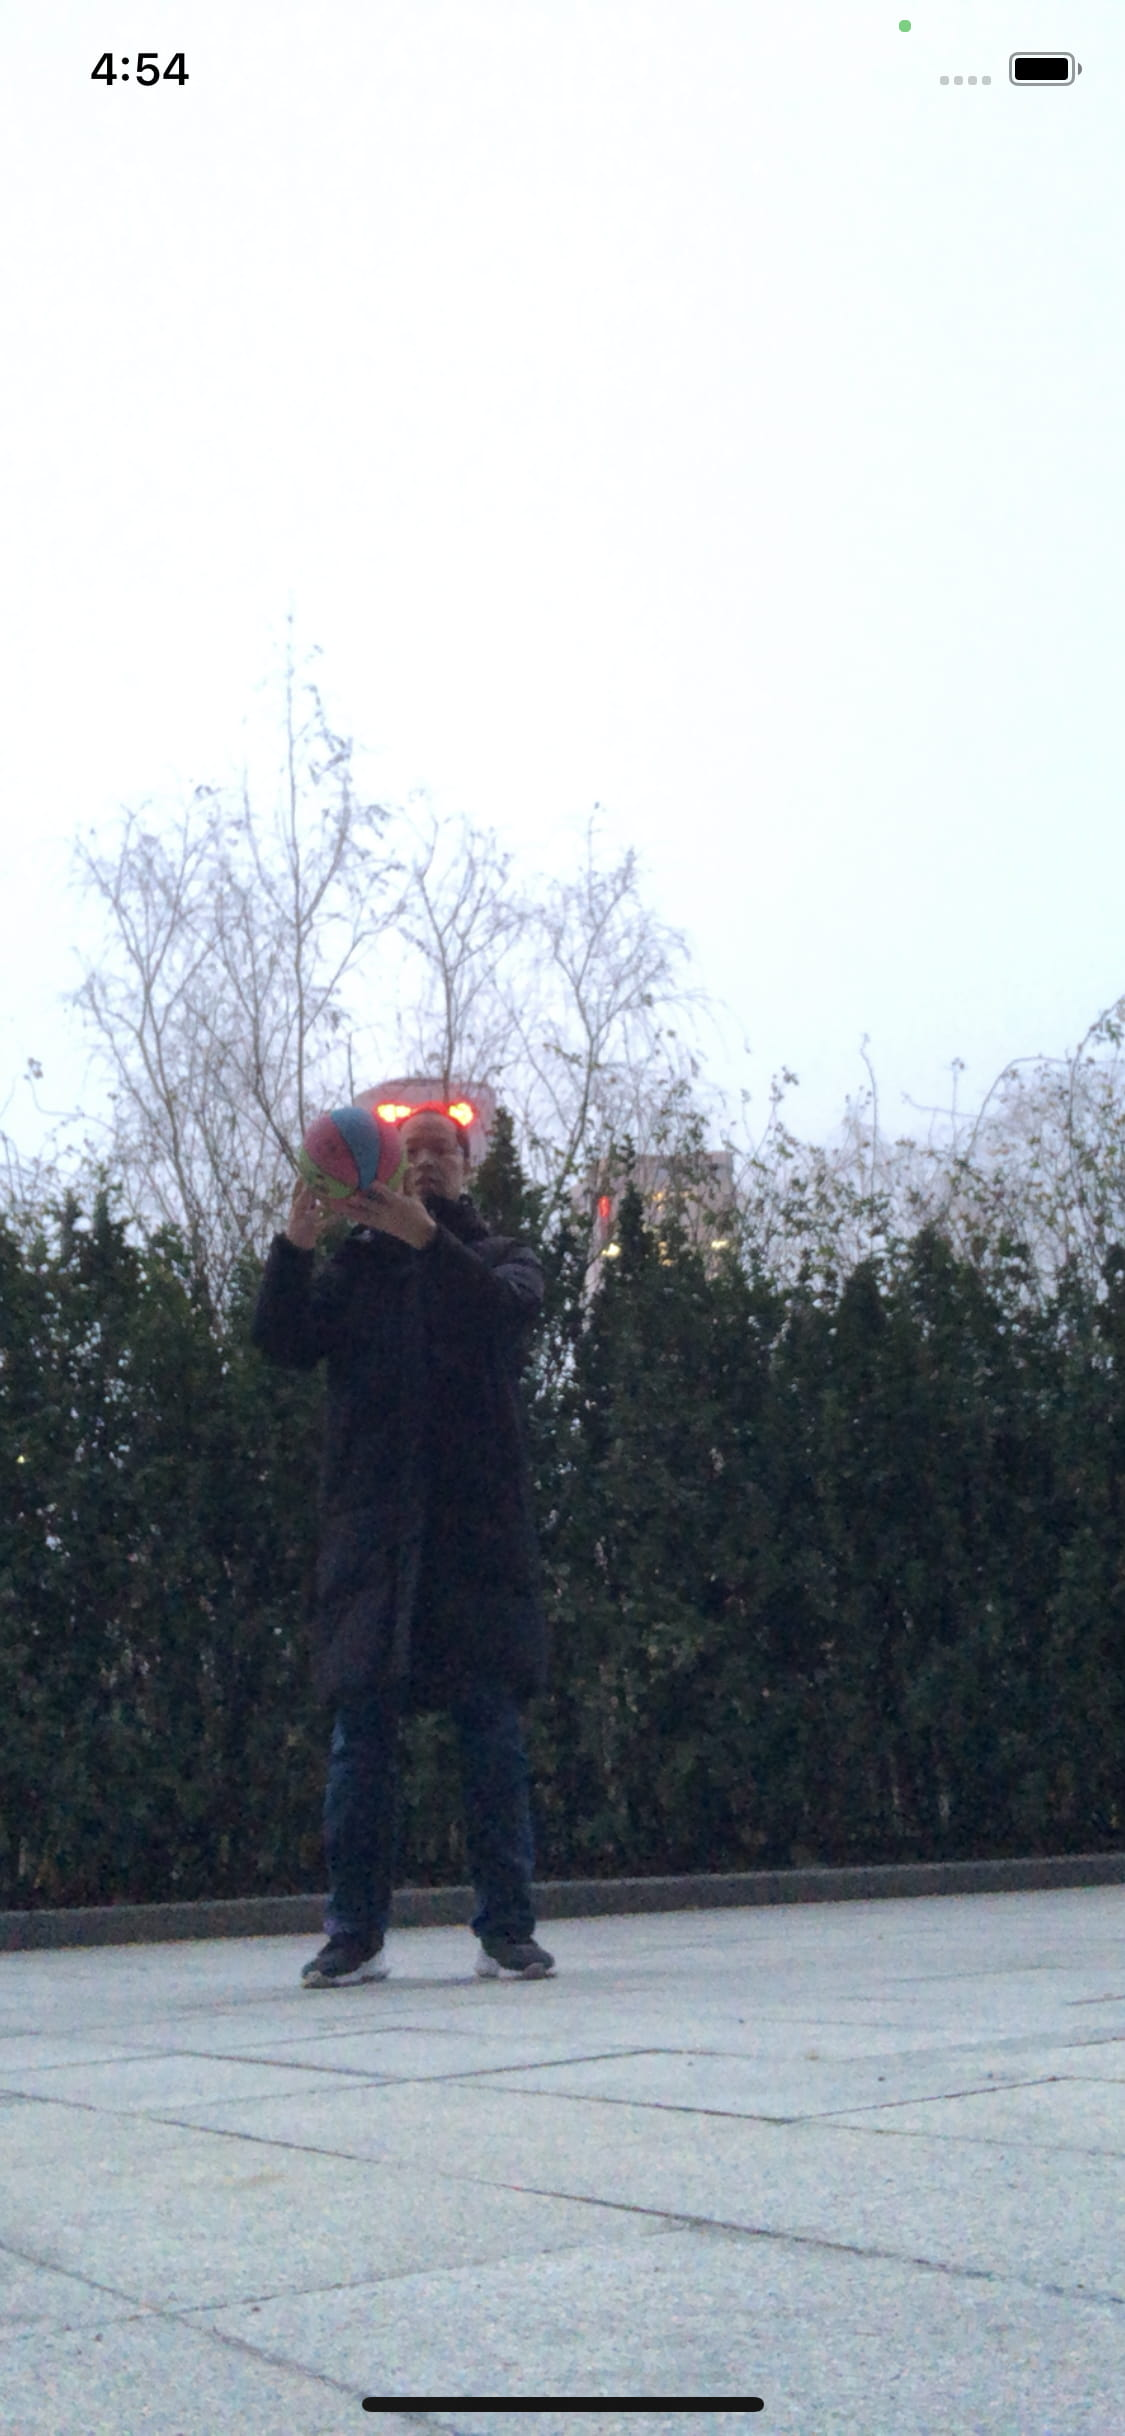ball: (303, 1101, 402, 1220)
